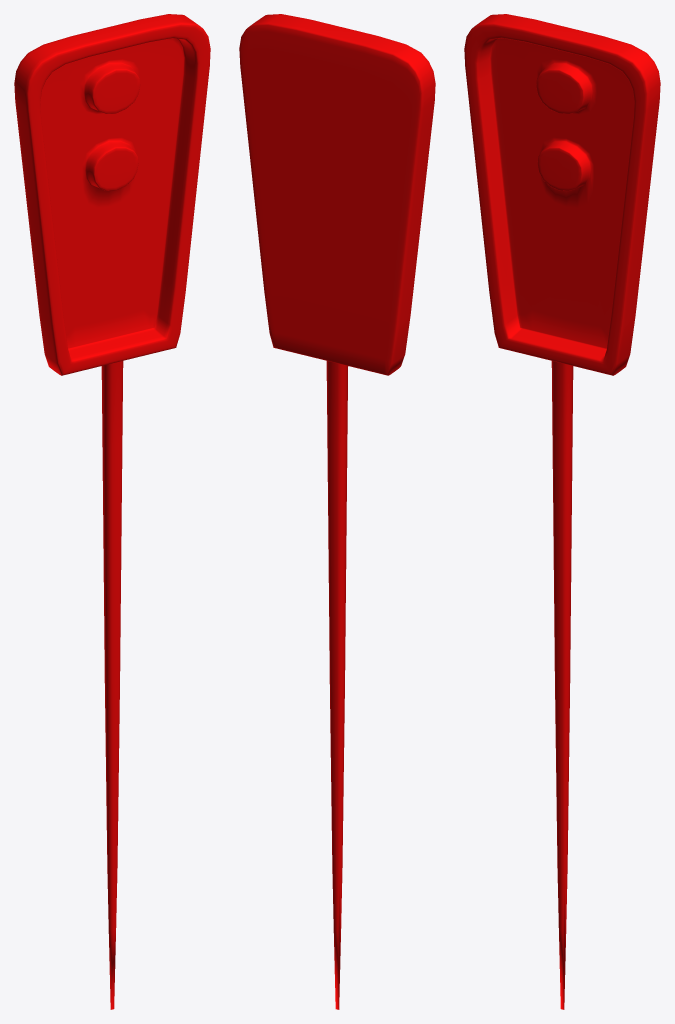
Rendered from Obstacle 3.FBX.
The picture shows the model from 3 angles, left to right: view 1: azimuth 30°, elevation 25°; view 2: azimuth 150°, elevation 25°; view 3: azimuth 330°, elevation 25°; orthographic projection.
Visible parts, largest first — view 1: Obstacle 3; view 2: Obstacle 3; view 3: Obstacle 3.
Boxes of the visible parts, x1,y1,x2,y2 form: Obstacle 3: [14, 14, 210, 1009]; Obstacle 3: [239, 14, 435, 1009]; Obstacle 3: [464, 14, 660, 1009].
Size of the model in its own units: 14.77 by 74.96 by 2.
